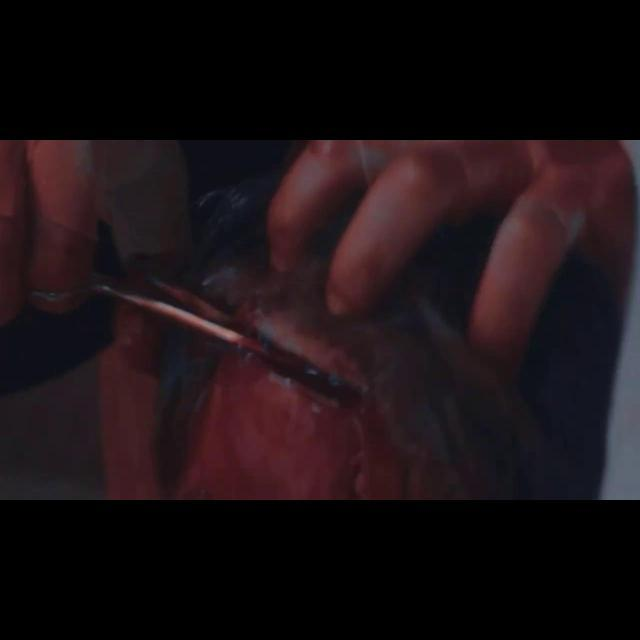blood: (89, 267, 408, 500)
